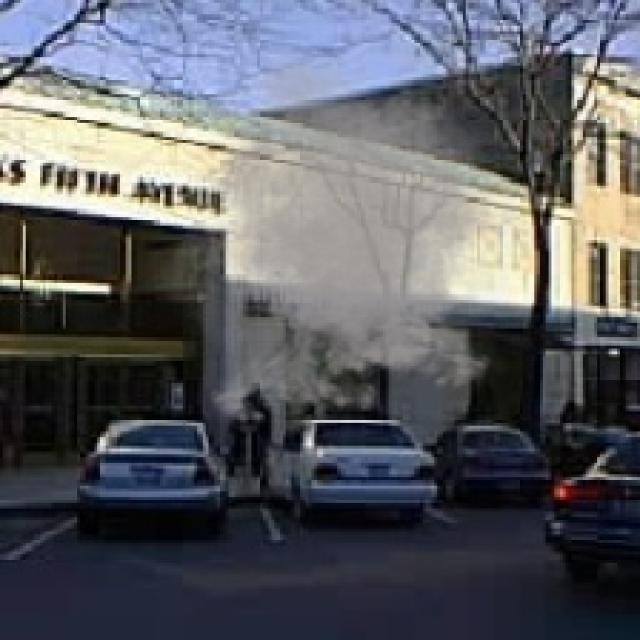Smoke: (152, 54, 548, 434)
